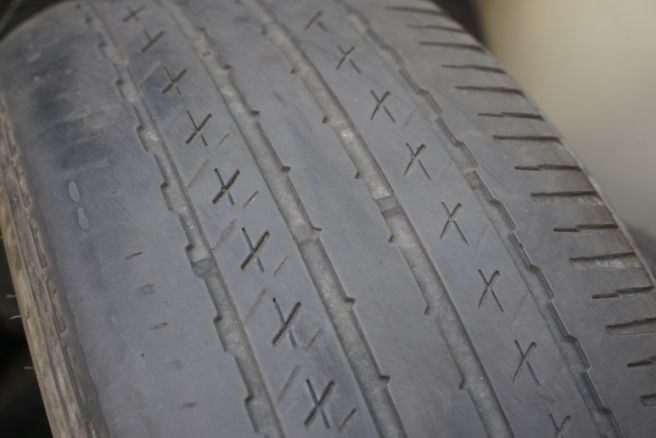bad_condition: (59, 1, 656, 429)
